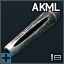AKML 7.62x39 system Izhmash flash hider: (0, 0, 64, 64)
